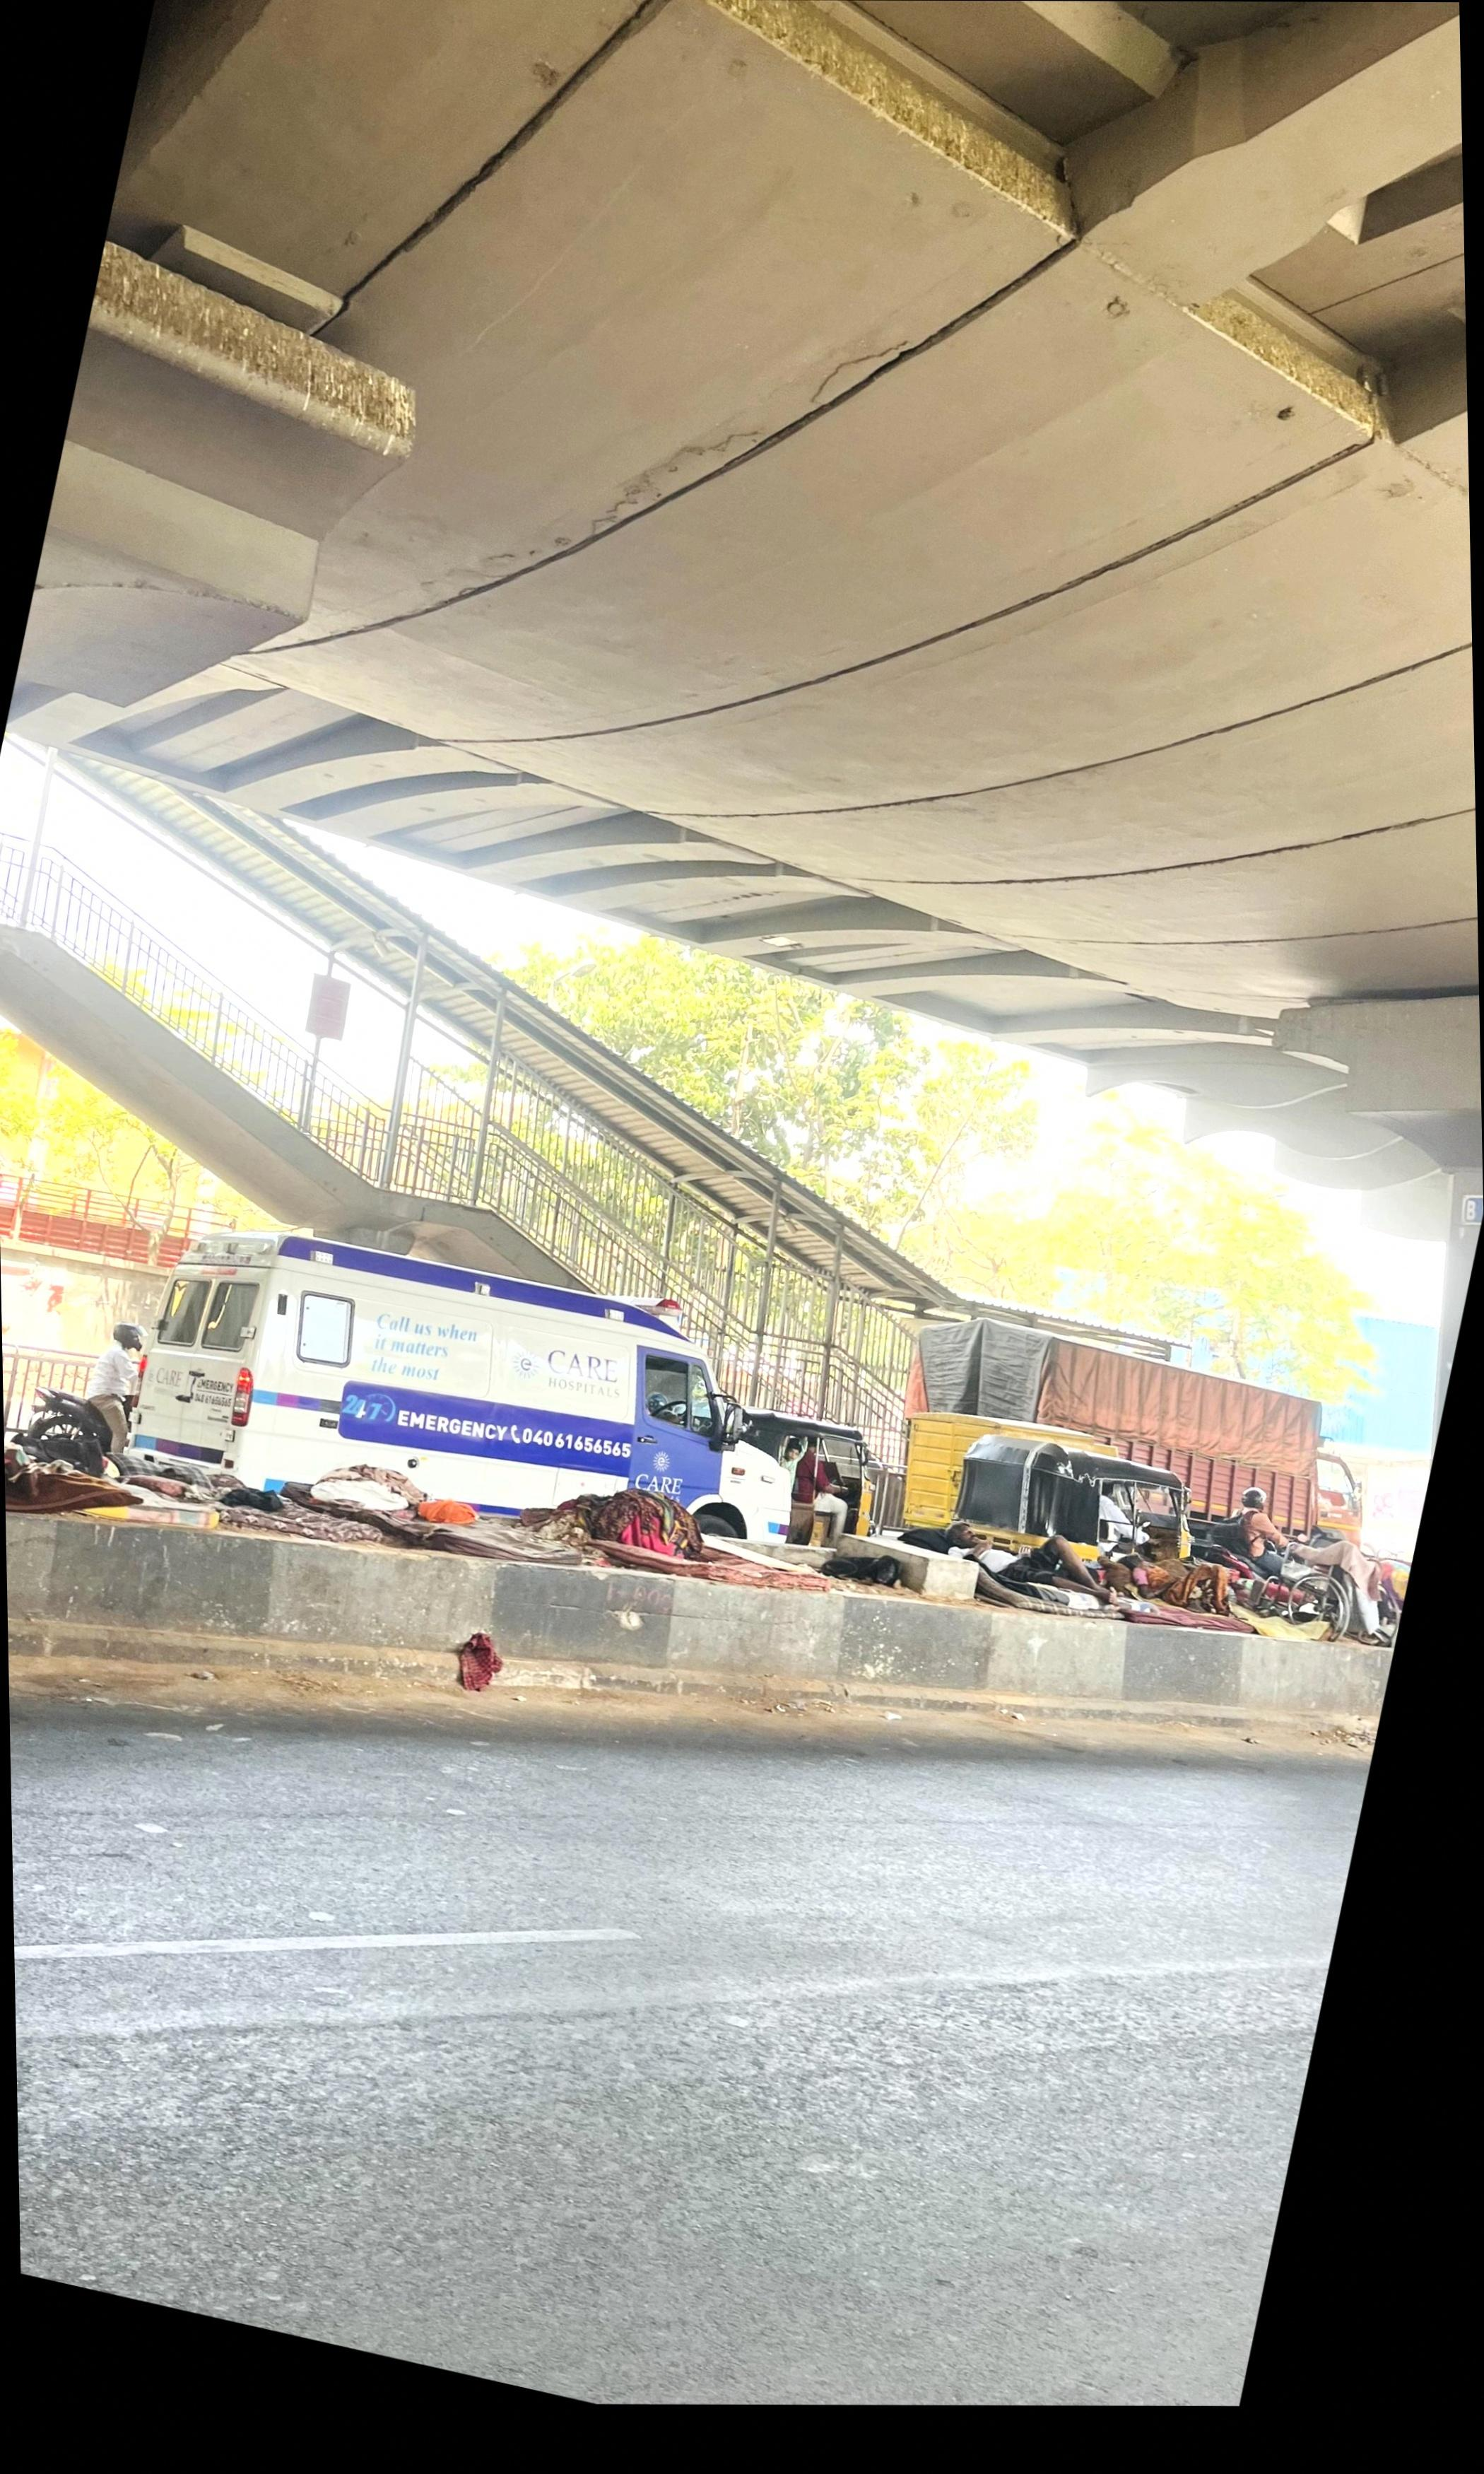ambulance: (226, 1237, 754, 1555)
